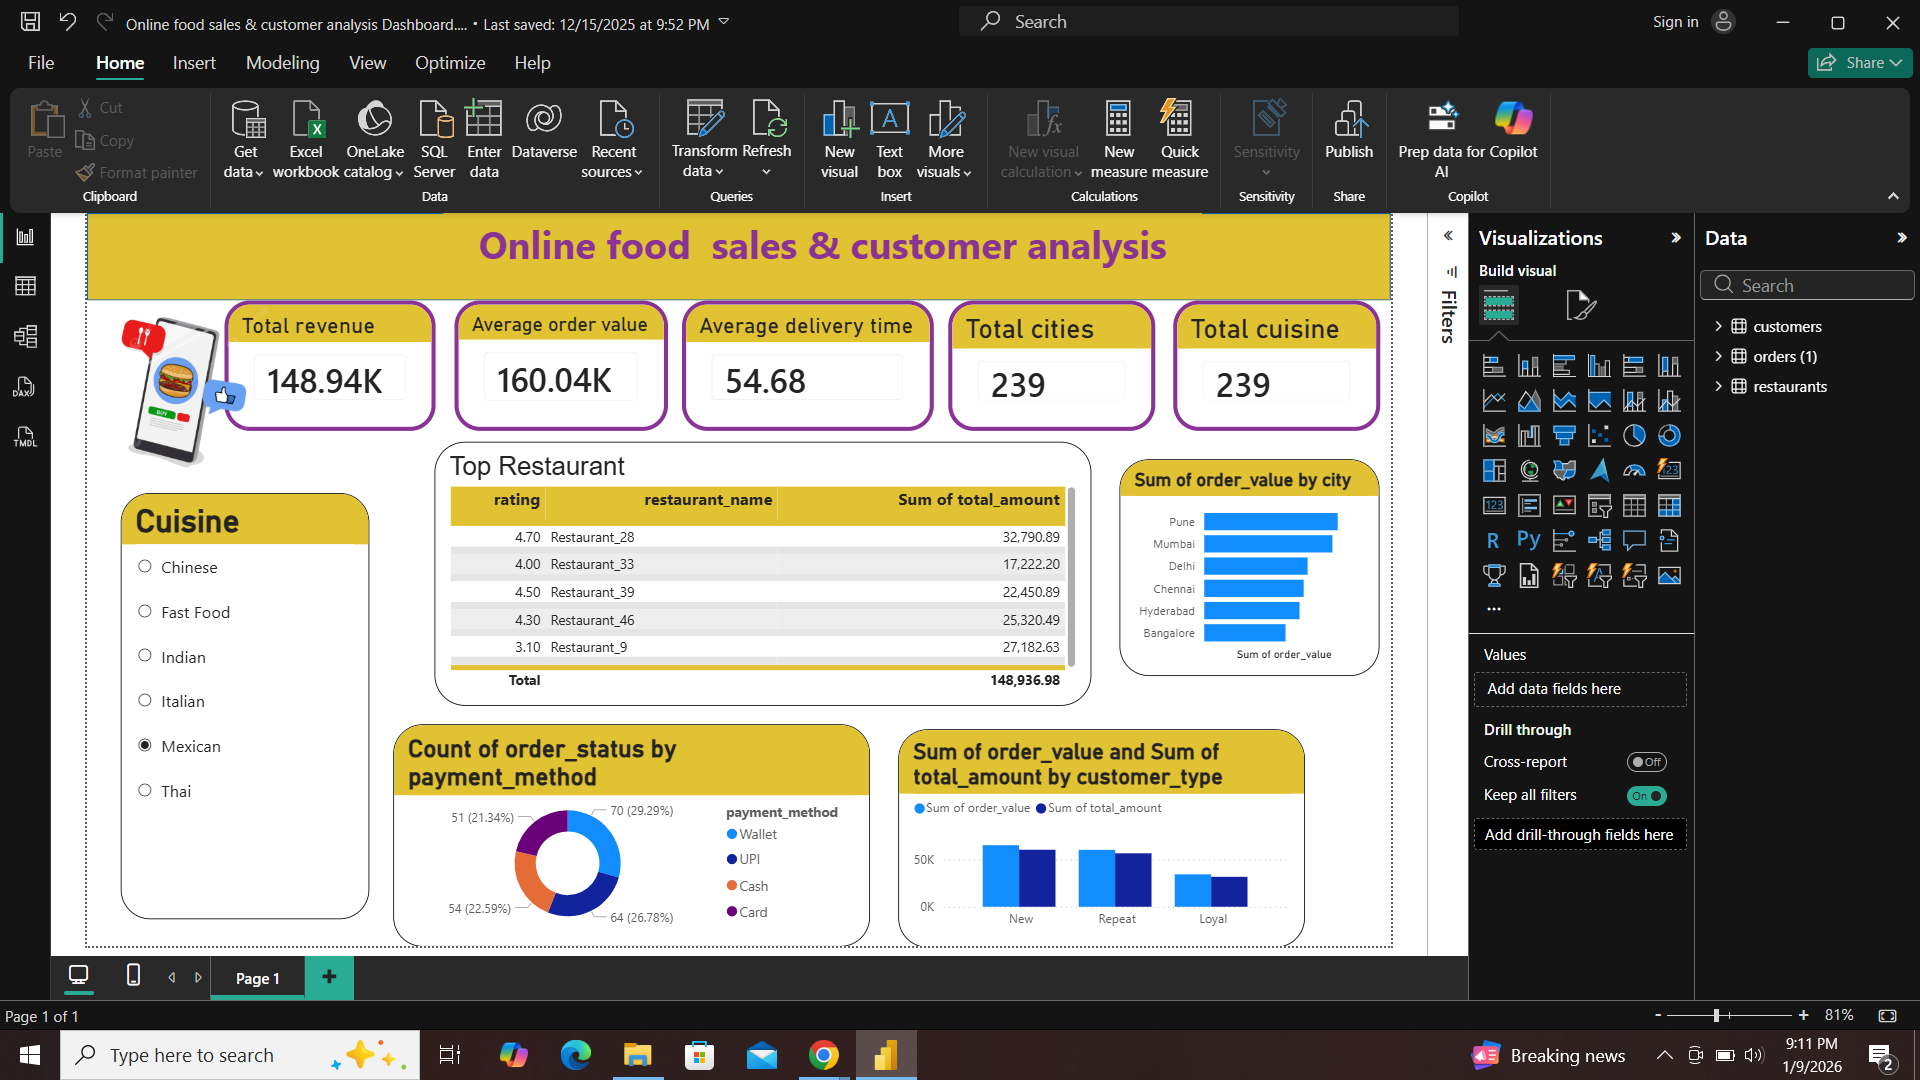

The page's visual inventory and layout, read from the dashboard file:
{"tool":"powerbi","page":{"name":"Page 1","canvas":[1280,720],"ordinal":0},"visuals":[{"type":"shape","box":[0,0,1279.8,85.9],"z":0},{"type":"textbox","box":[349.9,0,745.1,72.7],"z":1000},{"type":"cardVisual","title":"Total revenue","fields":{"Data":["Sum(orders (1).total_amount)"]},"box":[134.5,86.4,207.2,127.6],"z":2000},{"type":"cardVisual","title":"Average order value","fields":{"Data":["Sum(orders (1).order_value)"]},"box":[360.9,86.4,209.9,127.6],"z":3000},{"type":"cardVisual","title":"Average delivery time","fields":{"Data":["Avg(orders (1).delivery_time_mins)"]},"box":[584.6,86.4,247,127.6],"z":4000},{"type":"cardVisual","title":"Total cities","fields":{"Data":["CountNonNull(orders (1).city)"]},"box":[845.3,86.4,203.1,127.6],"z":5000},{"type":"cardVisual","title":"Total  cuisine","fields":{"Data":["CountNonNull(orders (1).cuisine)"]},"box":[1066.2,86.4,203.1,127.6],"z":7000},{"type":"listSlicer","title":"Cuisine","fields":{"Values":["orders (1).cuisine"]},"box":[32.9,274.4,244.3,418.5],"z":8000},{"type":"tableEx","title":"Top Restaurant","fields":{"Values":["restaurants.rating","restaurants.restaurant_name","Sum(orders (1).total_amount)"]},"box":[341.7,225,644.9,259.3],"z":9000},{"type":"donutChart","fields":{"Category":["orders (1).payment_method"],"Y":["CountNonNull(orders (1).order_status)"]},"box":[300.5,502.2,467.9,218.2],"z":9001},{"type":"clusteredColumnChart","fields":{"Category":["customers.customer_type"],"Y":["Sum(orders (1).order_value)","Sum(orders (1).total_amount)"]},"box":[795.9,506.3,399.3,214.1],"z":9002},{"type":"barChart","fields":{"Category":["orders (1).city"],"Y":["Sum(orders (1).order_value)"]},"box":[1014.1,241.5,255.2,212.7],"z":9003},{"type":"image","box":[0,53.5,190.7,244.3],"z":9004}]}

Visuals, with their boxes on the page's 1280x720 design canvas (x1, y1, x2, y2). These are canvas units, not pixel positions in the 1920x1080 screenshot, which may show the page scaled, cropped or inside an application window:
shape: <box>0,0,1280,86</box>
textbox: <box>350,0,1095,73</box>
"Total revenue" cardVisual: <box>134,86,342,214</box>
"Average order value" cardVisual: <box>361,86,571,214</box>
"Average delivery time" cardVisual: <box>585,86,832,214</box>
"Total cities" cardVisual: <box>845,86,1048,214</box>
"Total  cuisine" cardVisual: <box>1066,86,1269,214</box>
"Cuisine" listSlicer: <box>33,274,277,693</box>
"Top Restaurant" tableEx: <box>342,225,987,484</box>
donutChart - orders (1).payment_method x CountNonNull(orders (1).order_status): <box>300,502,768,720</box>
clusteredColumnChart - customers.customer_type x Sum(orders (1).order_value): <box>796,506,1195,720</box>
barChart - orders (1).city x Sum(orders (1).order_value): <box>1014,242,1269,454</box>
image: <box>0,54,191,298</box>
